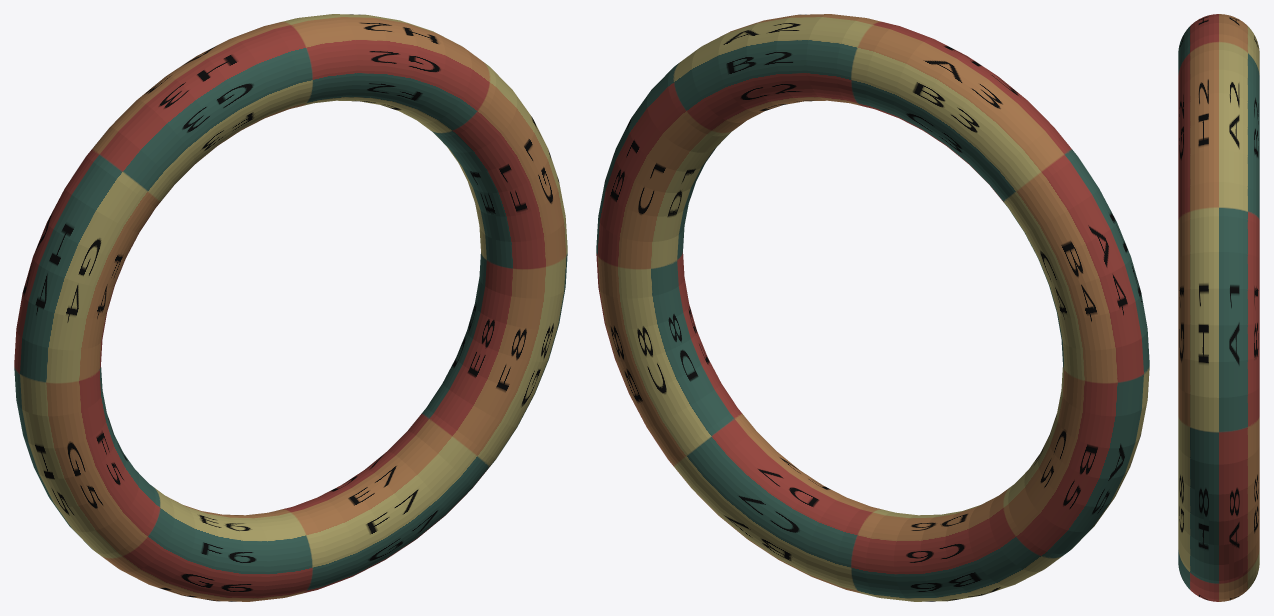
File: texture_torus_R21_r7.glb
The picture shows the model from 3 angles, left to right: view 1: azimuth 30°, elevation 25°; view 2: azimuth 150°, elevation 25°; view 3: azimuth 270°, elevation 25°; orthographic projection. The views are drawn at different scales.
Visible parts, largest first — view 1: world; view 2: world; view 3: world.
Part boxes in pixels (box(x1,y1,x2,y2)): world: box(14, 14, 567, 601); world: box(596, 14, 1149, 601); world: box(1178, 14, 1259, 601).
Size of the model in its own units: 27.87 by 27.81 by 3.86.
1 material, 1 textured.
